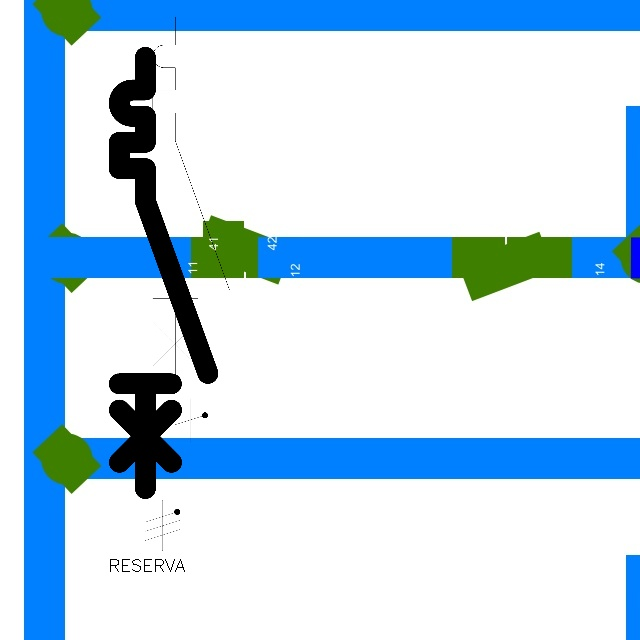interruptor_termomagnetico: (108, 46, 219, 499), (143, 7, 239, 398)
